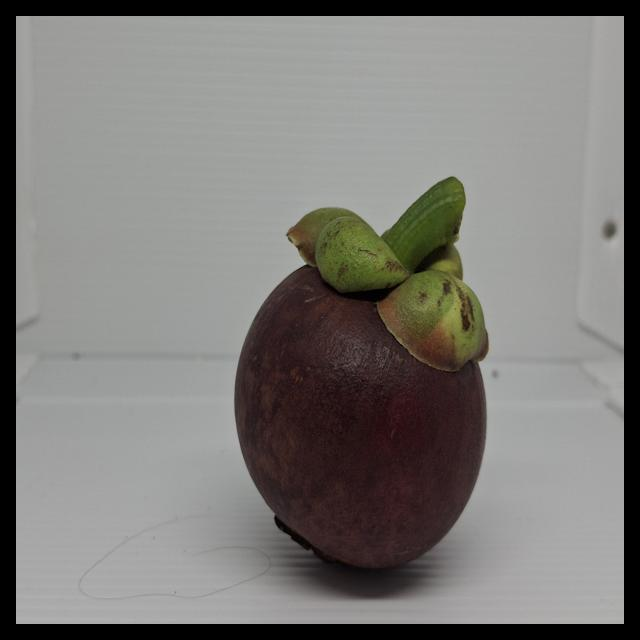mangosteen: (205, 157, 529, 595)
